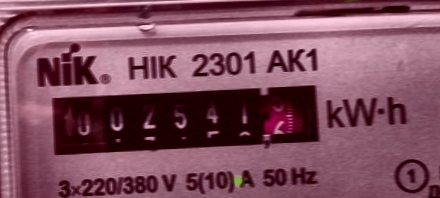0: (105, 102, 125, 135), (74, 109, 92, 138)
1: (233, 94, 250, 128)
2: (136, 100, 158, 134)
4: (202, 96, 220, 128)
5: (170, 101, 187, 133)
6: (268, 117, 285, 139)
screen: (36, 71, 339, 172)
